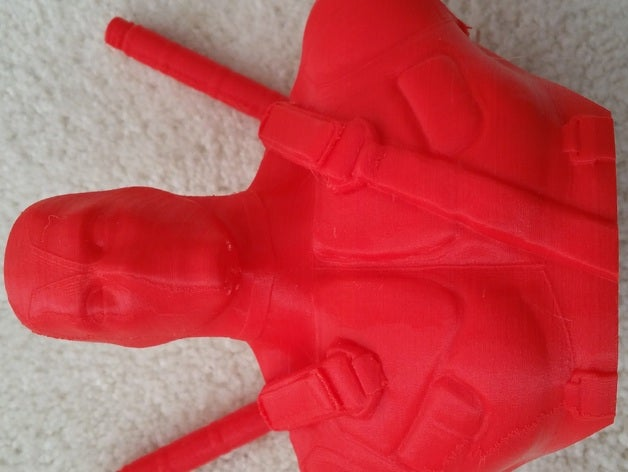Good: (1, 12, 628, 472)
